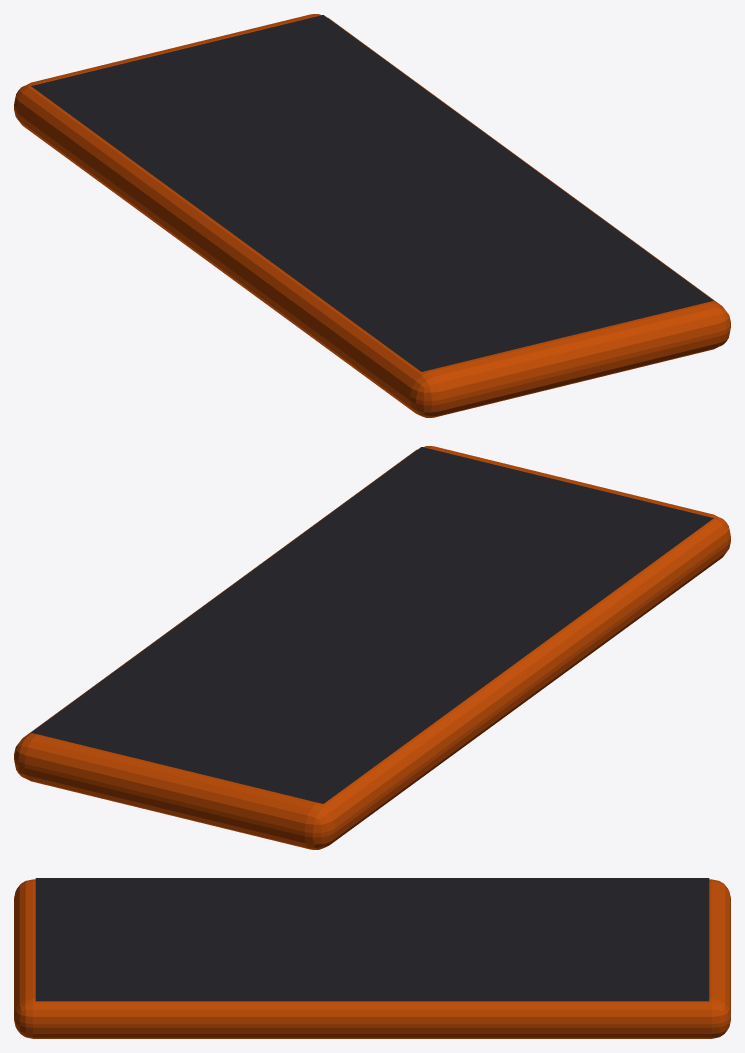
File: oppo-reno-model-291-flagship-2021.glb
3 renders of one model, top to bottom at view 1: azimuth 30°, elevation 25°; view 2: azimuth 150°, elevation 25°; view 3: azimuth 270°, elevation 25°, orthographic. The views are drawn at different scales.
Parts seen in each view (by area): view 1: Phone_Screen, Phone_Body; view 2: Phone_Screen, Phone_Body; view 3: Phone_Screen, Phone_Body.
Part boxes in pixels (x1=…): Phone_Screen: x1=31, y1=15, x2=713, y2=371; Phone_Body: x1=14, y1=14, x2=730, y2=417; Phone_Screen: x1=31, y1=447, x2=713, y2=803; Phone_Body: x1=14, y1=446, x2=730, y2=849; Phone_Screen: x1=35, y1=878, x2=709, y2=1001; Phone_Body: x1=14, y1=879, x2=730, y2=1038.
Bounding box in the file's own units: 0.0701 × 0.0094 × 0.1587.
